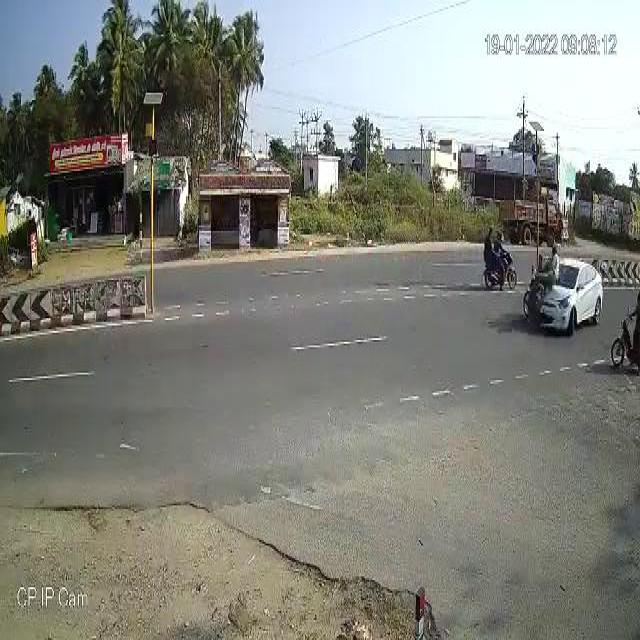accident: (516, 223, 610, 341)
